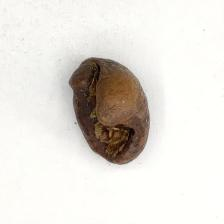NG: (70, 59, 137, 164)
